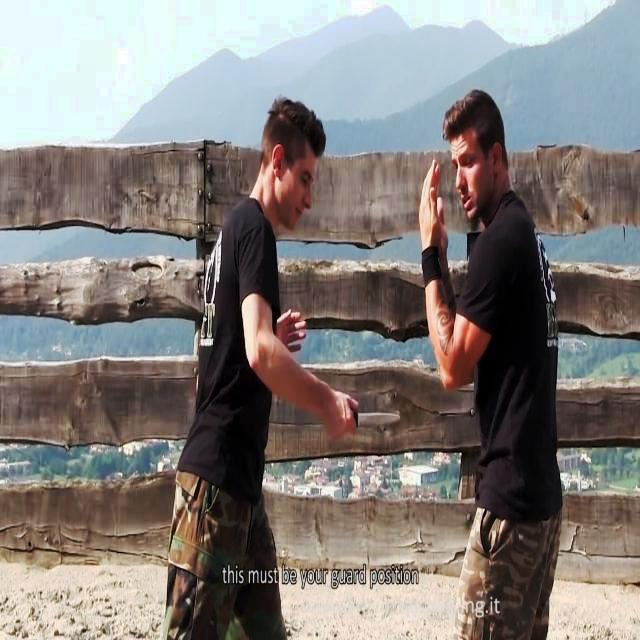Knife: (349, 406, 408, 434)
